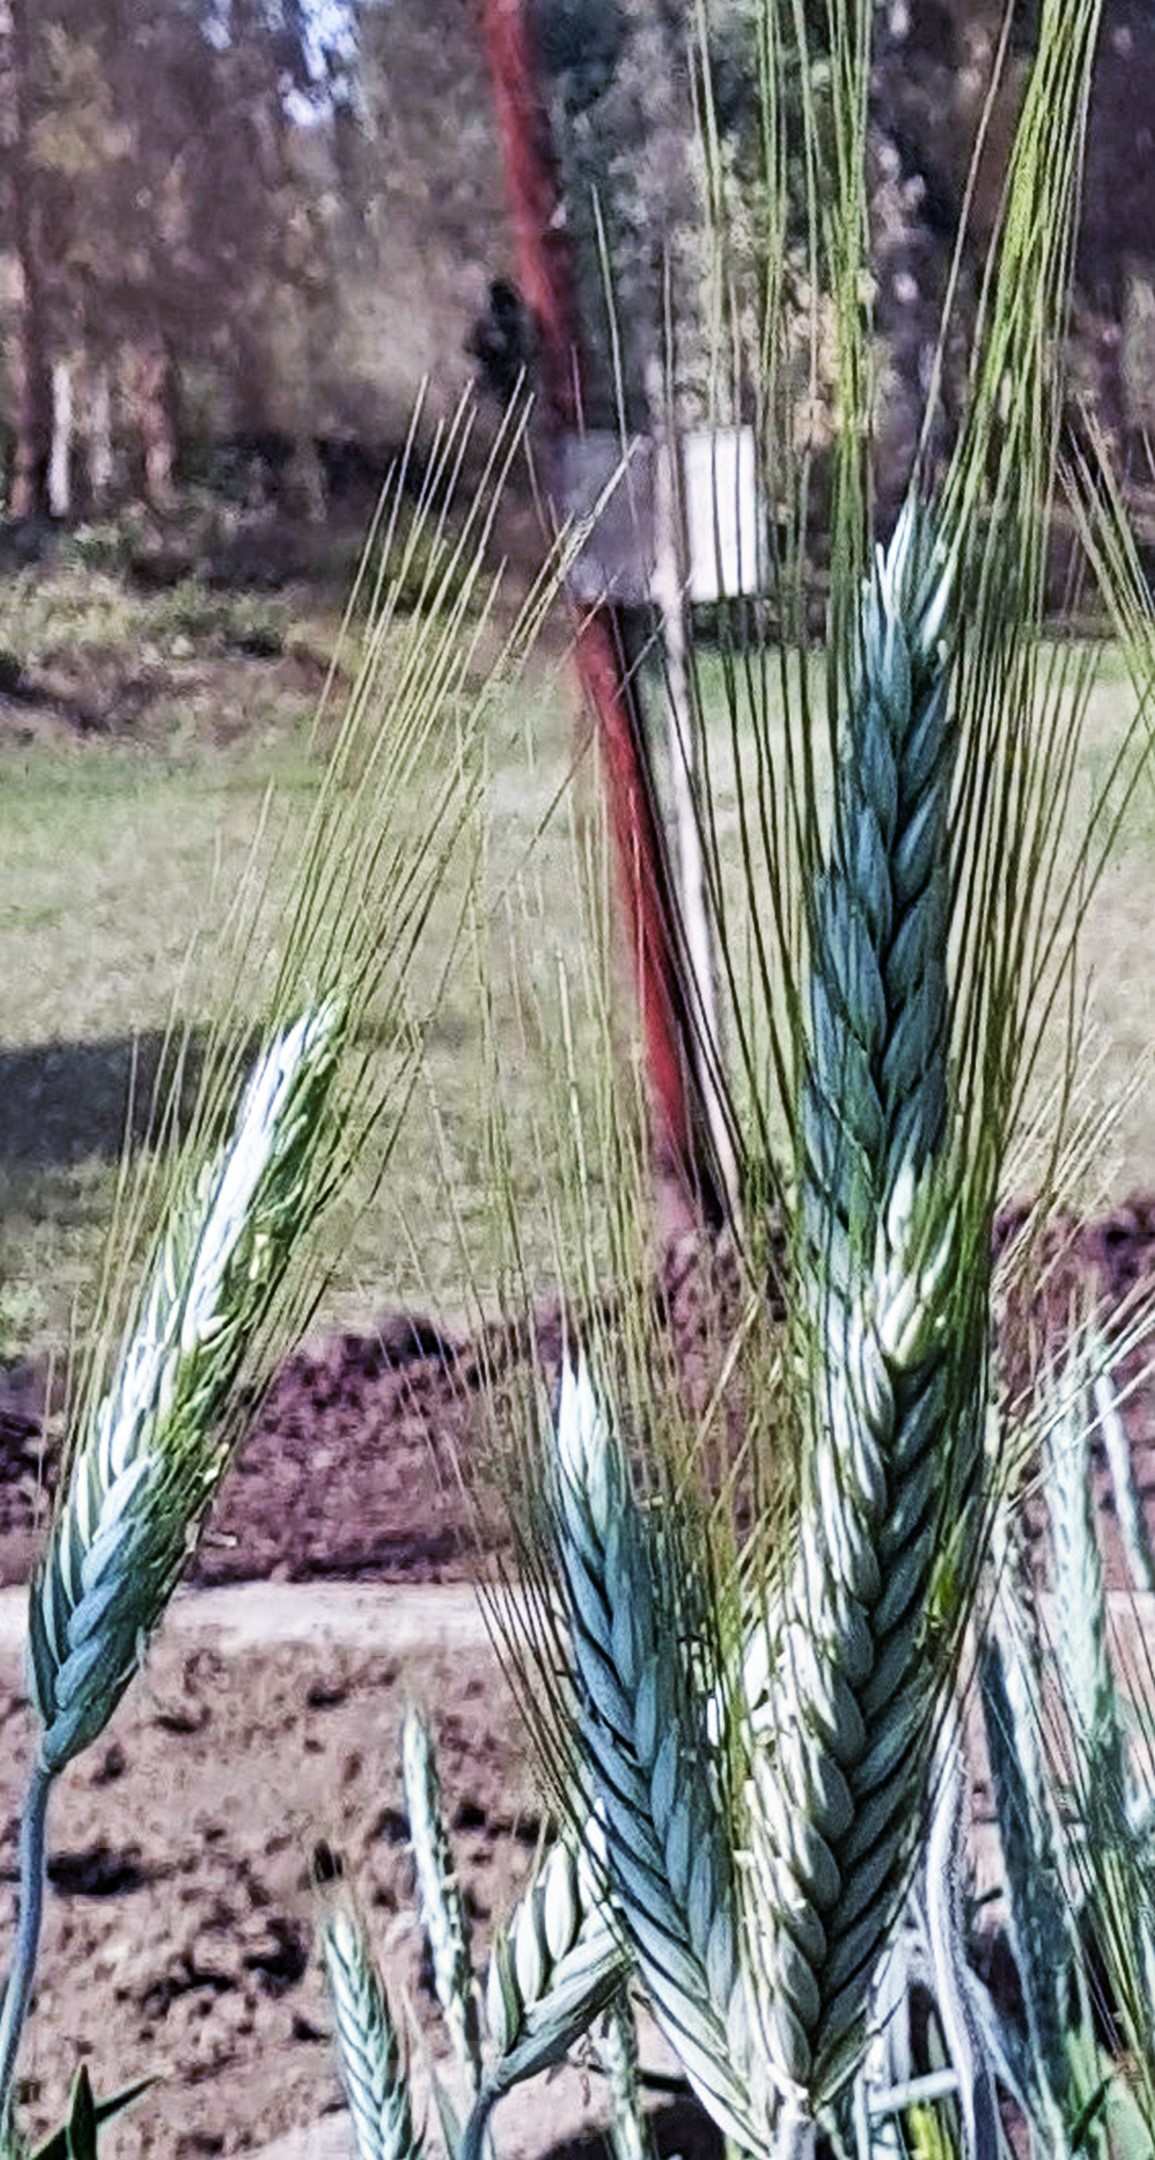Healthy Wheat: (506, 1359, 763, 2080)
